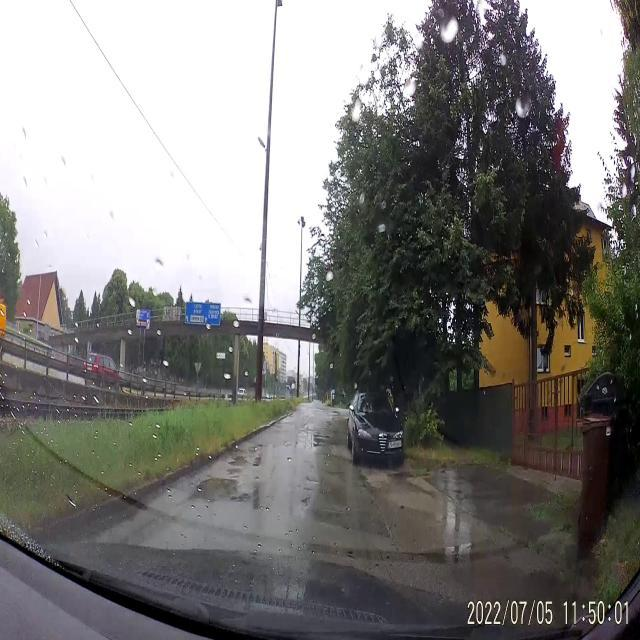Pothole: (188, 474, 255, 512), (227, 442, 266, 473), (300, 490, 314, 516)
